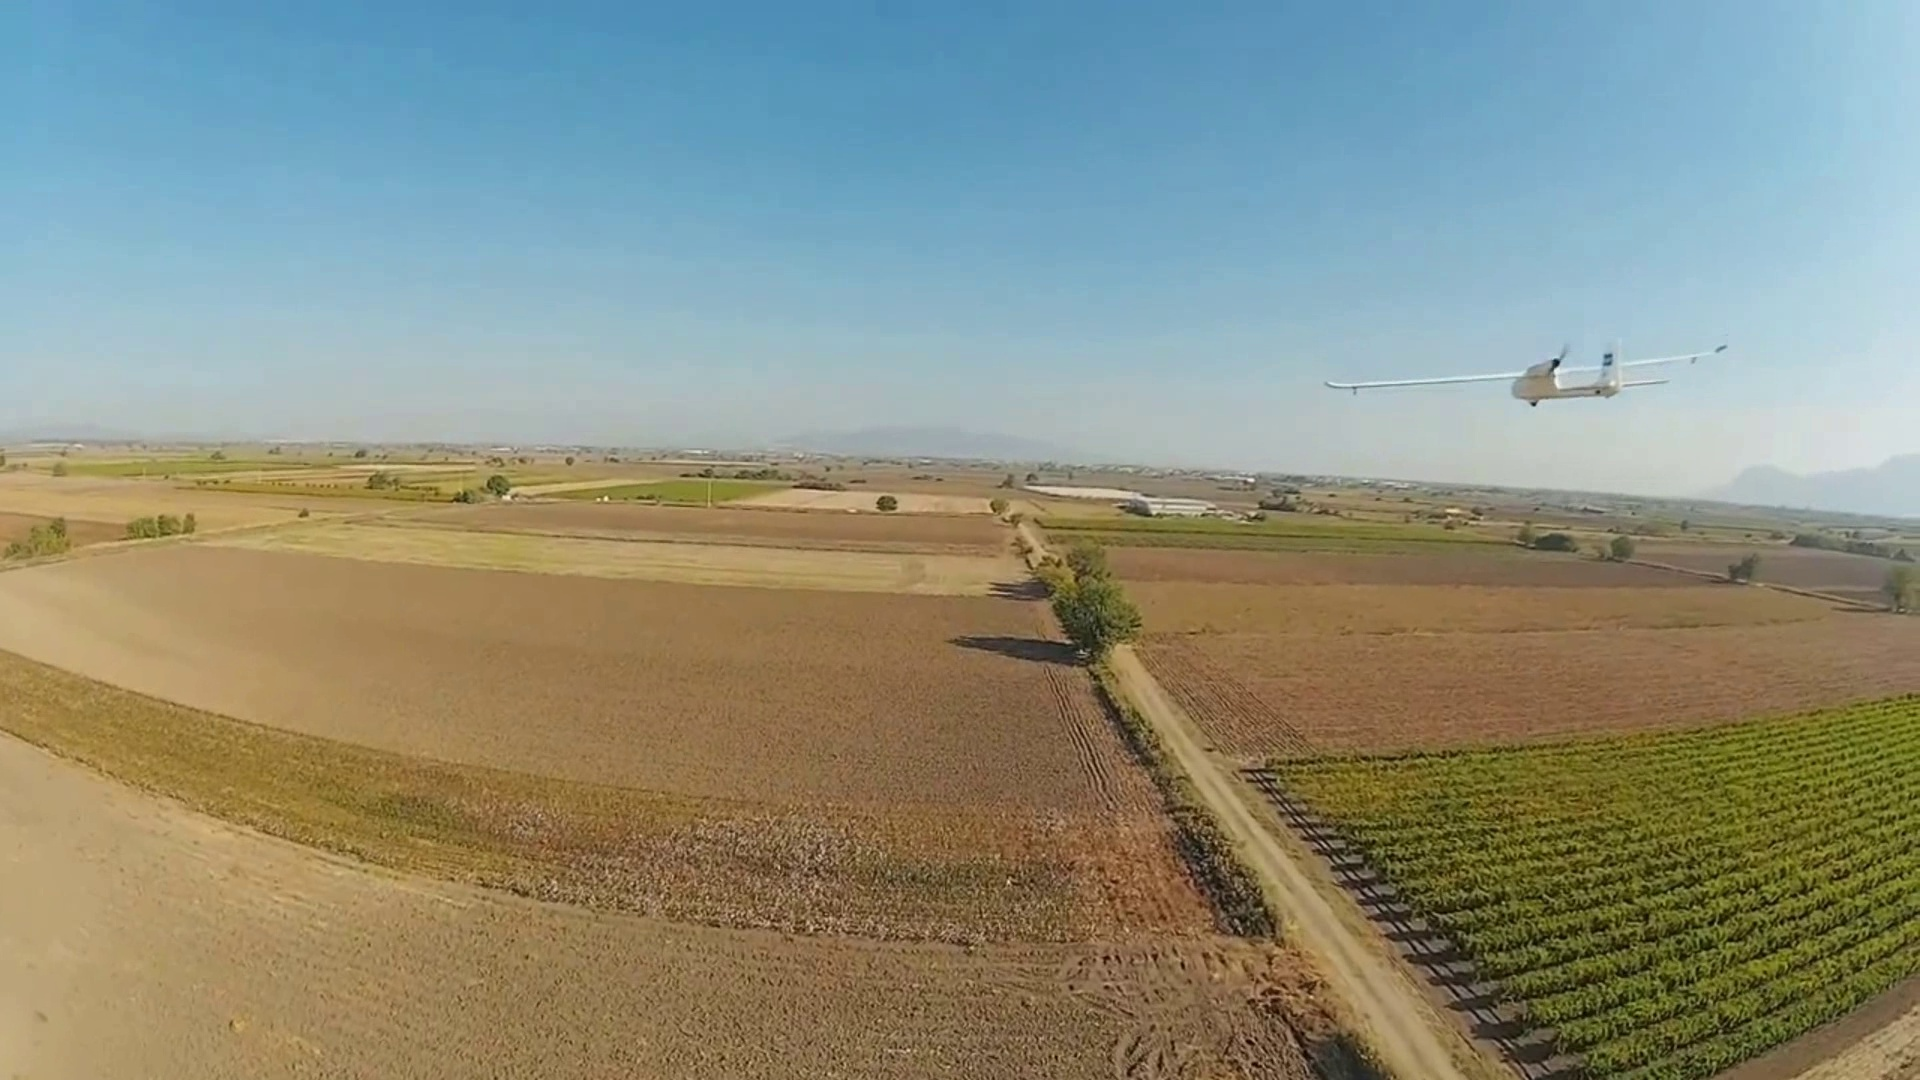airplane: (1321, 338, 1730, 406)
